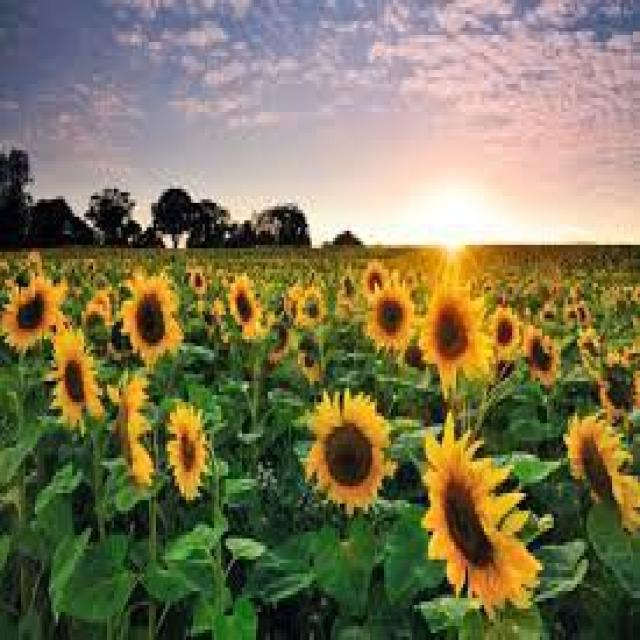sunflower: (412, 412, 547, 622), (304, 386, 399, 516), (561, 411, 640, 540), (418, 274, 497, 400), (121, 276, 184, 371), (166, 394, 217, 506), (48, 327, 104, 428), (0, 271, 61, 359), (368, 278, 417, 352), (596, 353, 640, 416), (523, 323, 562, 390), (486, 302, 524, 366), (228, 273, 261, 339), (260, 313, 299, 365), (362, 259, 394, 297), (296, 287, 324, 329), (189, 269, 207, 294)
